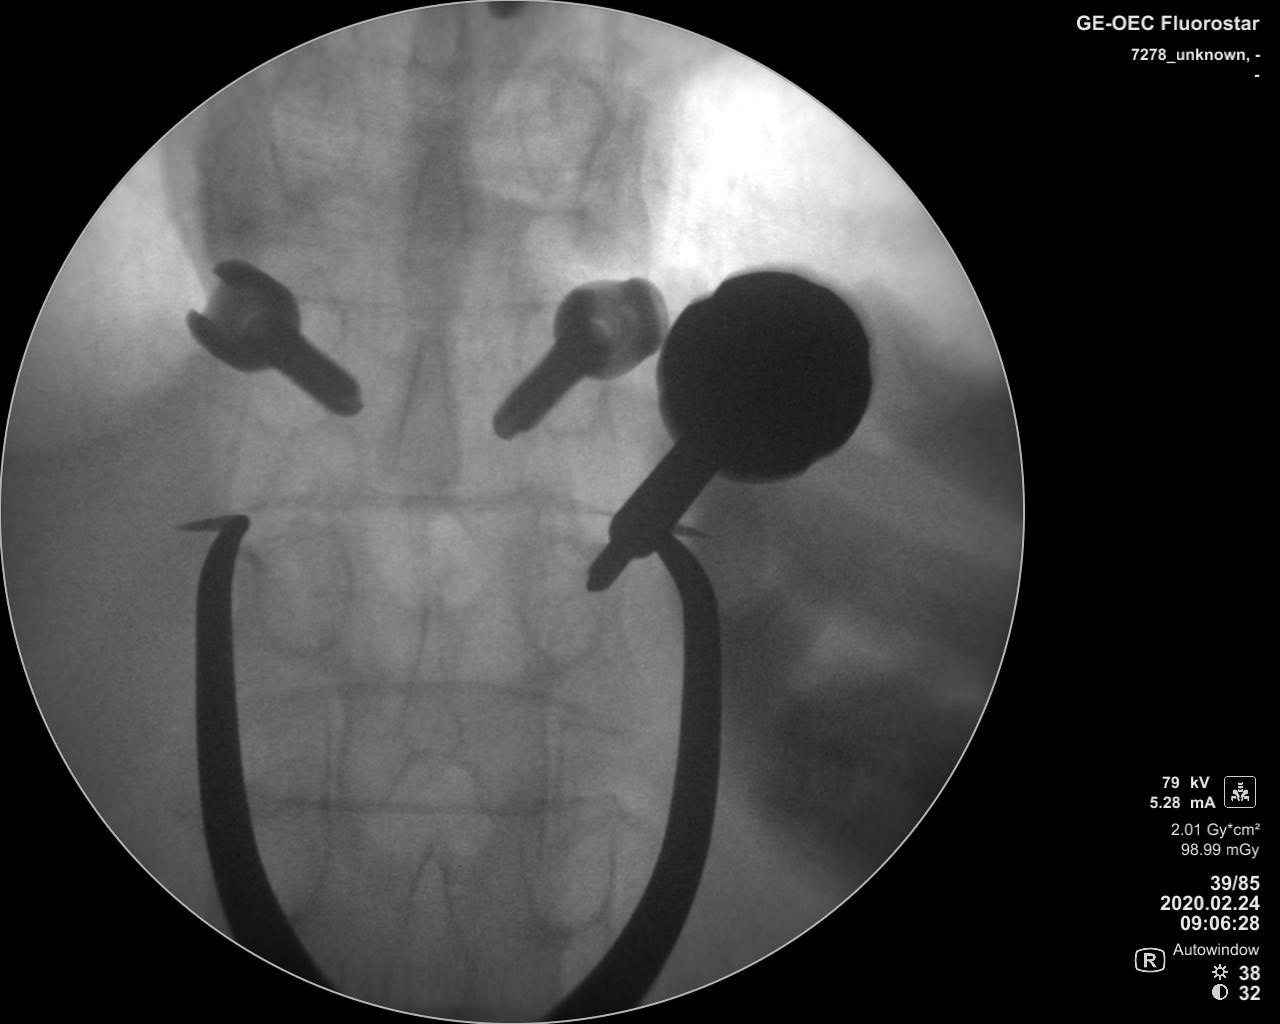eyes: (248, 283, 338, 443), (264, 68, 360, 213), (254, 528, 354, 661), (516, 800, 614, 935), (519, 301, 608, 442), (515, 55, 602, 197), (515, 535, 605, 670)
line: (247, 682, 594, 714), (241, 491, 604, 515), (258, 795, 557, 821), (297, 287, 554, 318)
nose: (392, 851, 475, 1013), (386, 328, 462, 485), (393, 590, 464, 757), (398, 137, 472, 287), (408, 5, 470, 130)
